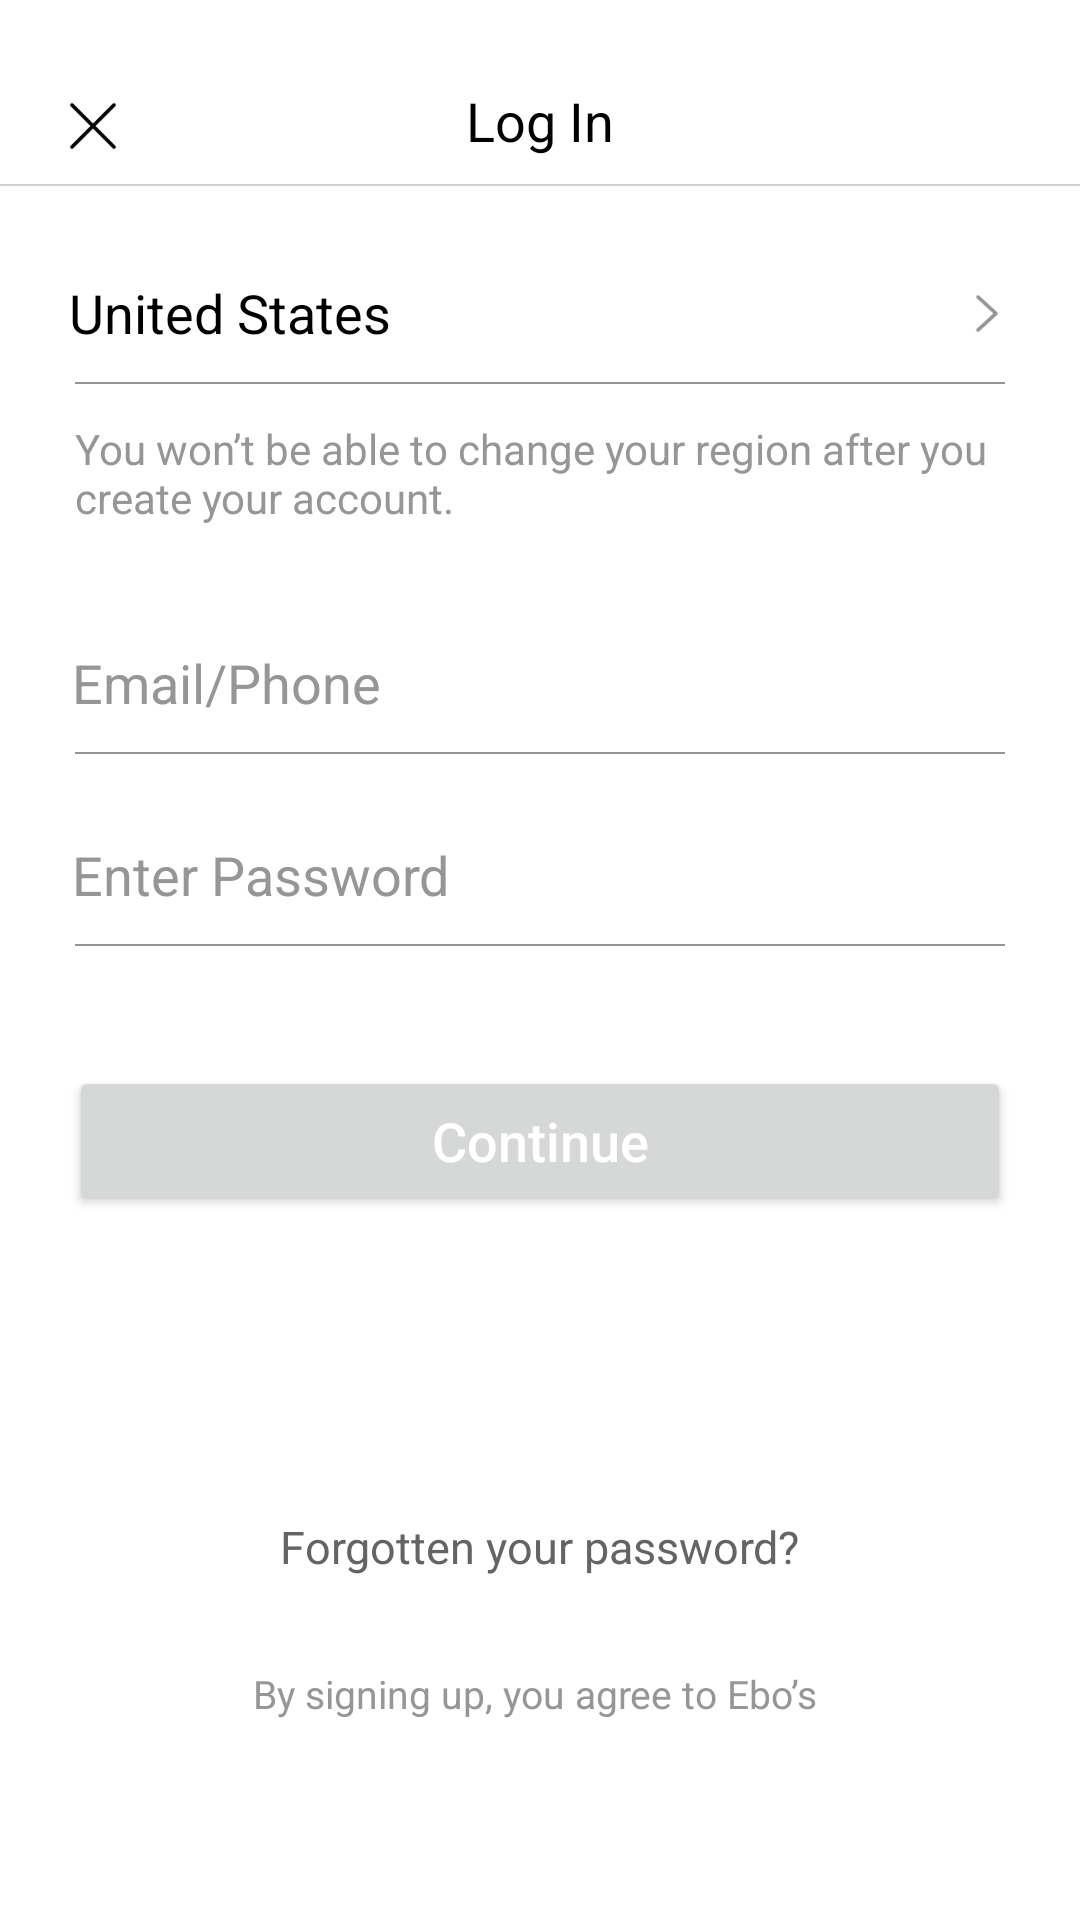

Where to tap for icons on this 1080*1920 app screen, as (x,y):
arrow right: (987,313)
close: (93,126)
